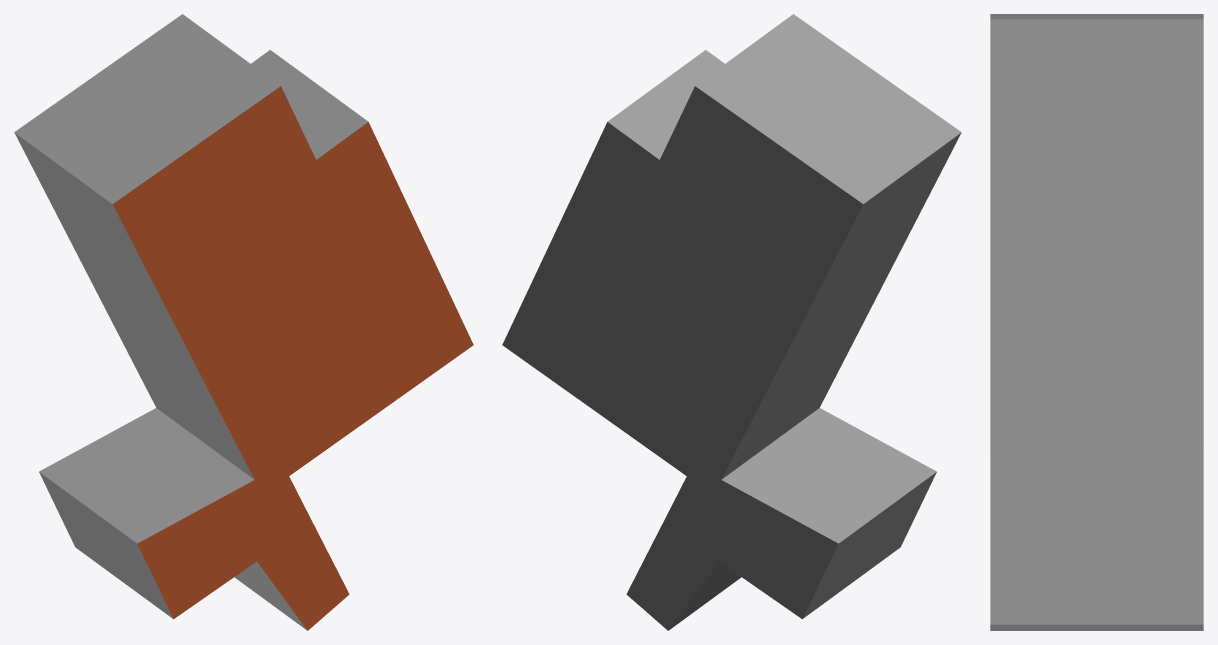
Rendered from construction_1796_assumed_A_Casa_h6m.obj.
The picture shows the model from 3 angles, left to right: view 1: azimuth 30°, elevation 25°; view 2: azimuth 150°, elevation 25°; view 3: azimuth 270°, elevation 25°; orthographic projection. The views are drawn at different scales.
Visible parts, largest first — view 1: construction_1796_assumed_A_Casa; view 2: construction_1796_assumed_A_Casa; view 3: construction_1796_assumed_A_Casa.
Boxes of the visible parts, x1=… form: construction_1796_assumed_A_Casa: x1=14, y1=14, x2=473, y2=630; construction_1796_assumed_A_Casa: x1=502, y1=14, x2=961, y2=630; construction_1796_assumed_A_Casa: x1=990, y1=14, x2=1203, y2=630.
Bounding box in the file's own units: 12.72 × 18.55 × 6.
